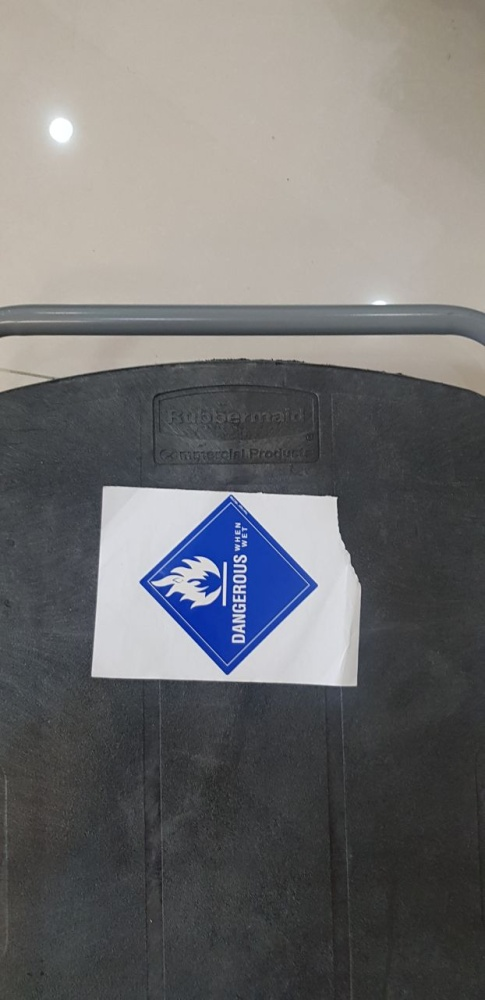Dangerous when wet: (140, 495, 318, 675)
